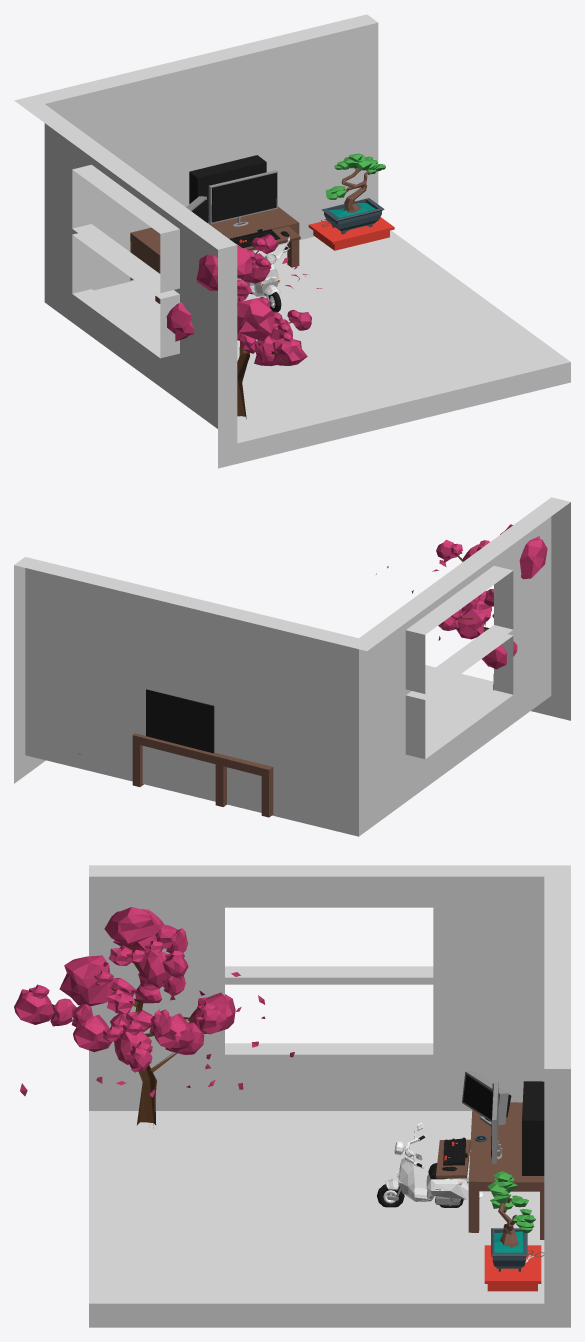
3 renders of one model, top to bottom at view 1: azimuth 30°, elevation 25°; view 2: azimuth 150°, elevation 25°; view 3: azimuth 270°, elevation 25°, orthographic. The views are drawn at different scales.
Parts seen in each view (by area): view 1: Plane, Desktop, Orchid, Bonsai, Scooter; view 2: Plane, Desktop, Orchid; view 3: Plane, Orchid, Desktop, Bonsai, Scooter.
Part boxes in pixels (x1=…): Plane: x1=14, y1=14, x2=570, y2=468; Desktop: x1=130, y1=155, x2=300, y2=303; Orchid: x1=166, y1=234, x2=322, y2=418; Bonsai: x1=308, y1=153, x2=394, y2=250; Scooter: x1=237, y1=237, x2=289, y2=312; Plane: x1=14, y1=497, x2=570, y2=836; Desktop: x1=132, y1=689, x2=273, y2=817; Orchid: x1=376, y1=524, x2=547, y2=690; Plane: x1=89, y1=865, x2=570, y2=1327; Orchid: x1=14, y1=907, x2=294, y2=1128; Desktop: x1=436, y1=1070, x2=544, y2=1239; Bonsai: x1=484, y1=1171, x2=544, y2=1291; Scooter: x1=377, y1=1123, x2=483, y2=1207.
Bounding box in the file's own units: 4.19 × 2.48 × 4.85.
